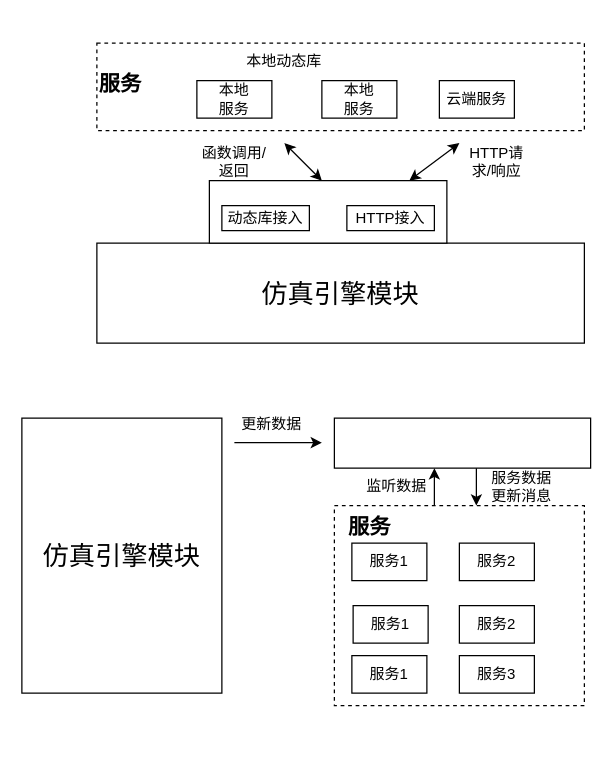
The diagram is 613 pixels wide and 769 high, and some of its shapes have lost their labels. Here are the shapes that lost their labels. From the top down, the box of each, then its label:
(208, 179, 447, 243): 统一服务接入
(333, 417, 591, 468): 代理模型消息队列
